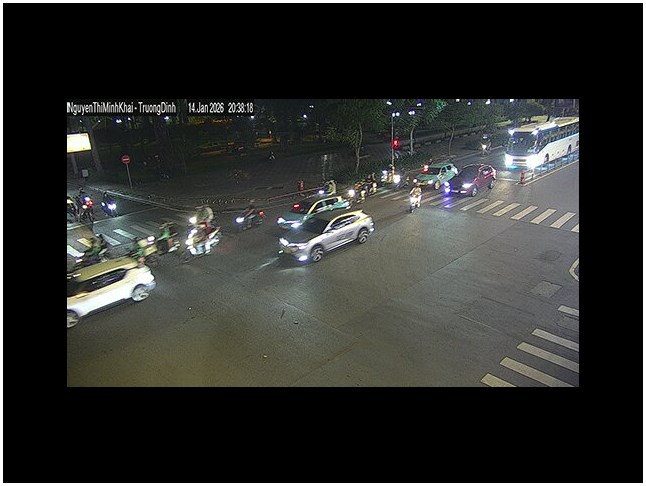bus: (506, 117, 579, 177)
car: (67, 255, 157, 329), (276, 209, 377, 265), (449, 163, 496, 197), (232, 207, 266, 232)
